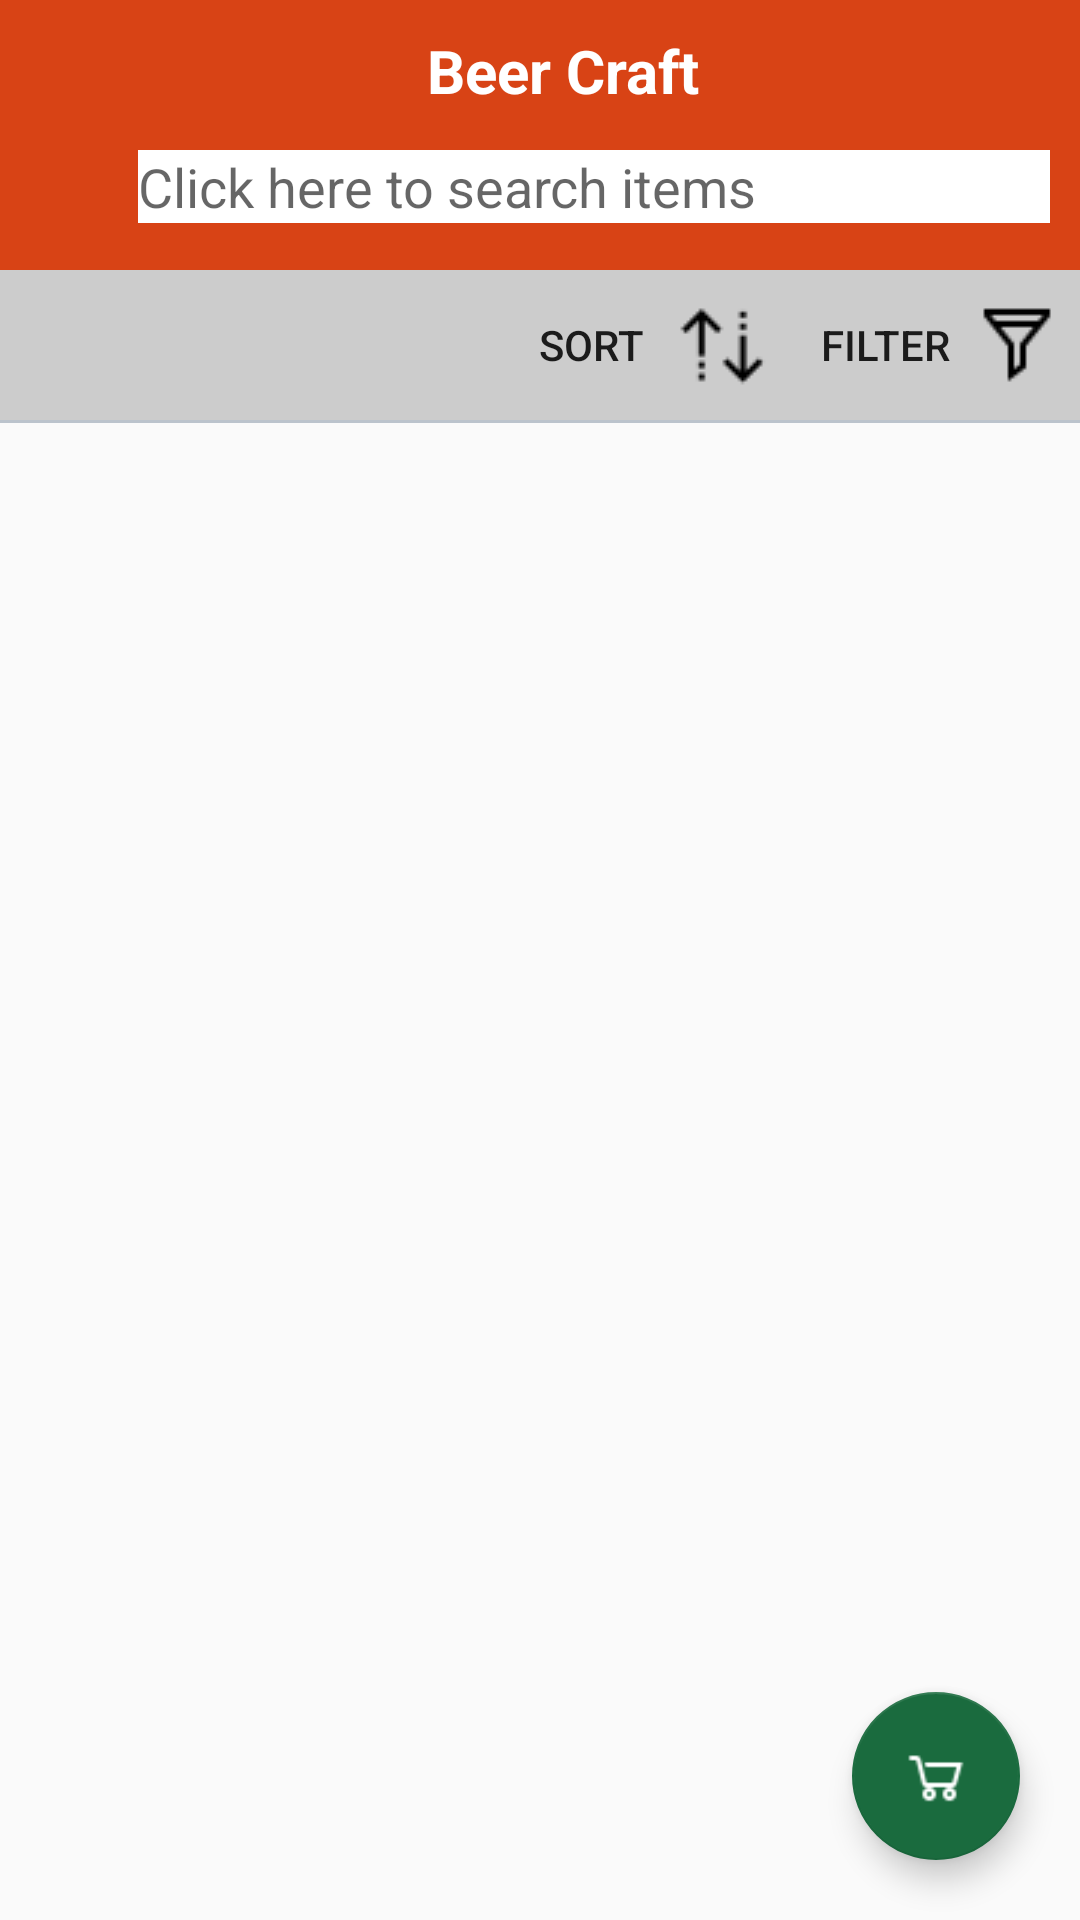

Icons on this 1080px x 1920px Android screen, each with its box as (x1, y1, x2, y2):
shopping cart: (852, 1692, 1020, 1860)
